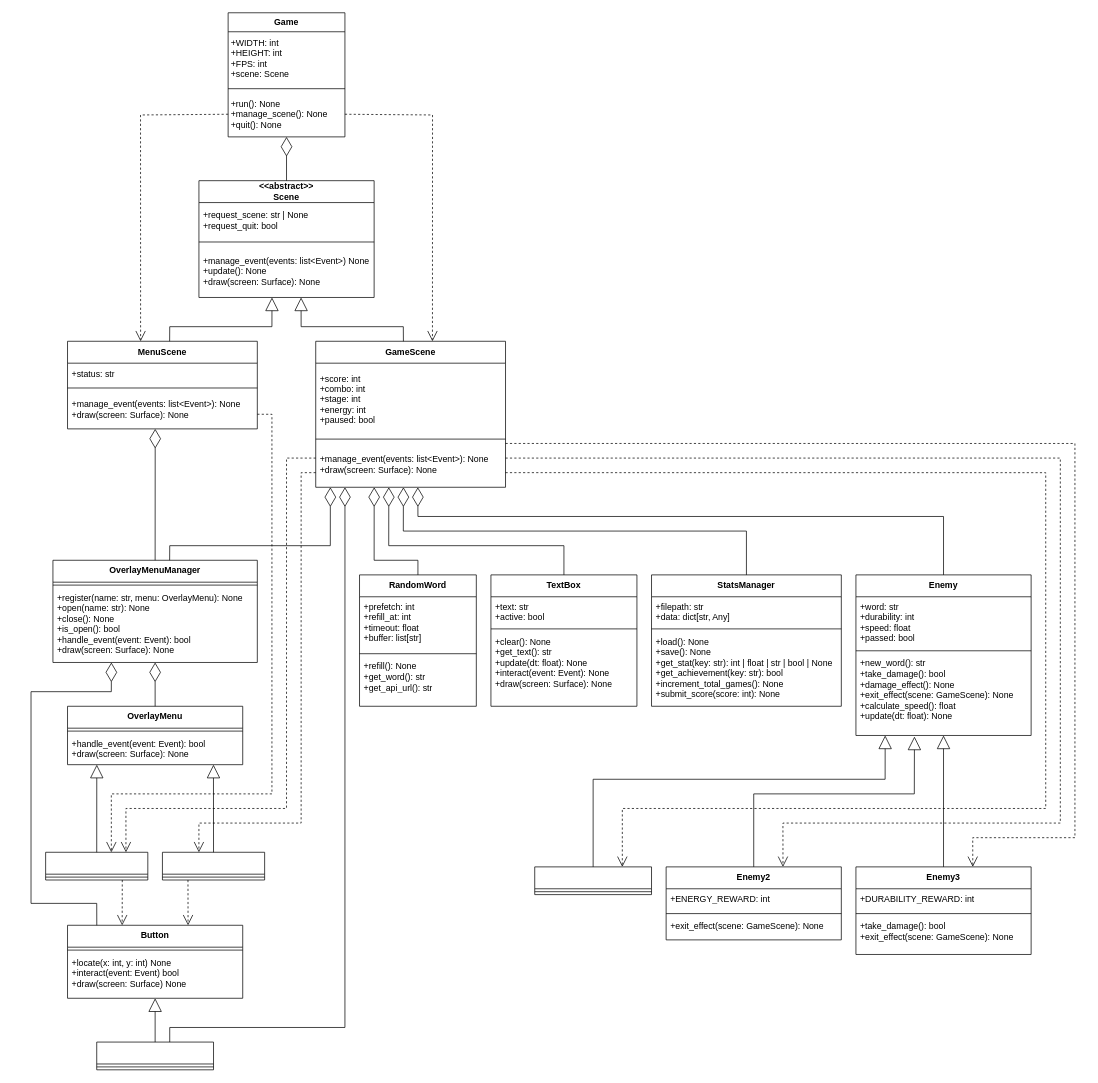
This 1098x1083 diagram has some shape labels left out. The centre of each missing label's shape, as x and y in pixels:
"Enemy1" belongs at point (593, 880).
"GuideOverlayMenu" belongs at point (96, 866).
"IconButton" belongs at point (155, 1055).
"PauseOverlayMenu" belongs at point (213, 866).
